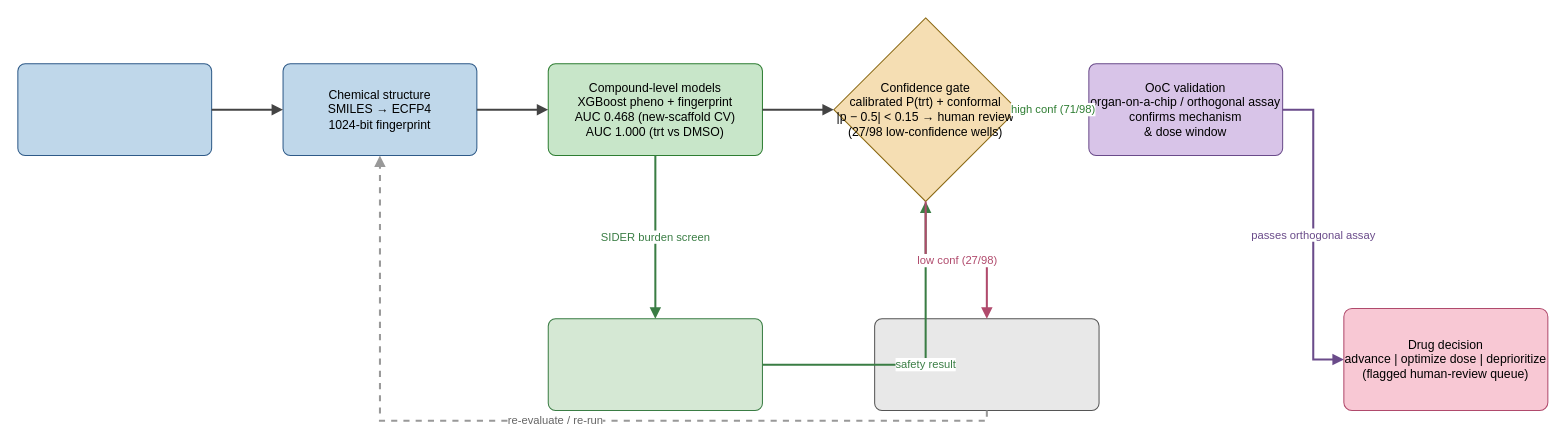
This 1566x448 diagram has some shape labels left out. Each missing label, with the box of its shape:
Human review queue flagged wells re-checked → re-rank / re-run: (874, 318, 1099, 411)
Safety screen SIDER AUC 0.636 (burden ranking: null result): (547, 318, 762, 411)
Single-cell phenotype Cell Painting, 8 channels 904-d morphology profile: (17, 63, 212, 156)
